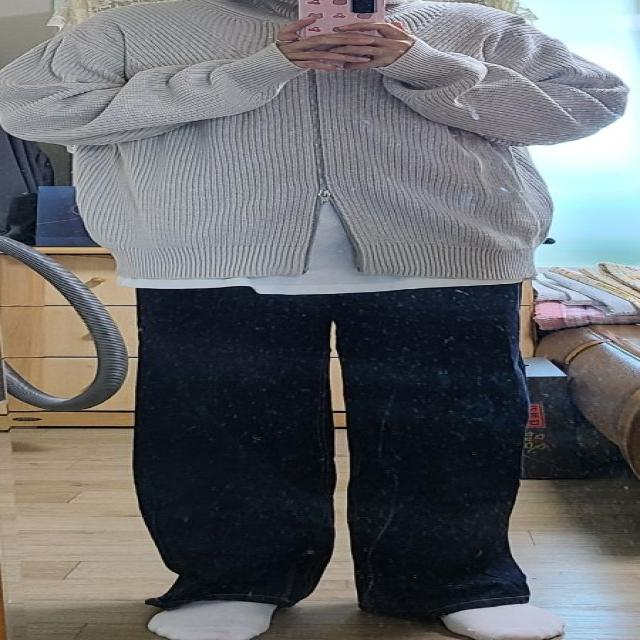cardigan: (0, 0, 630, 282)
denimpants: (116, 270, 541, 616)
